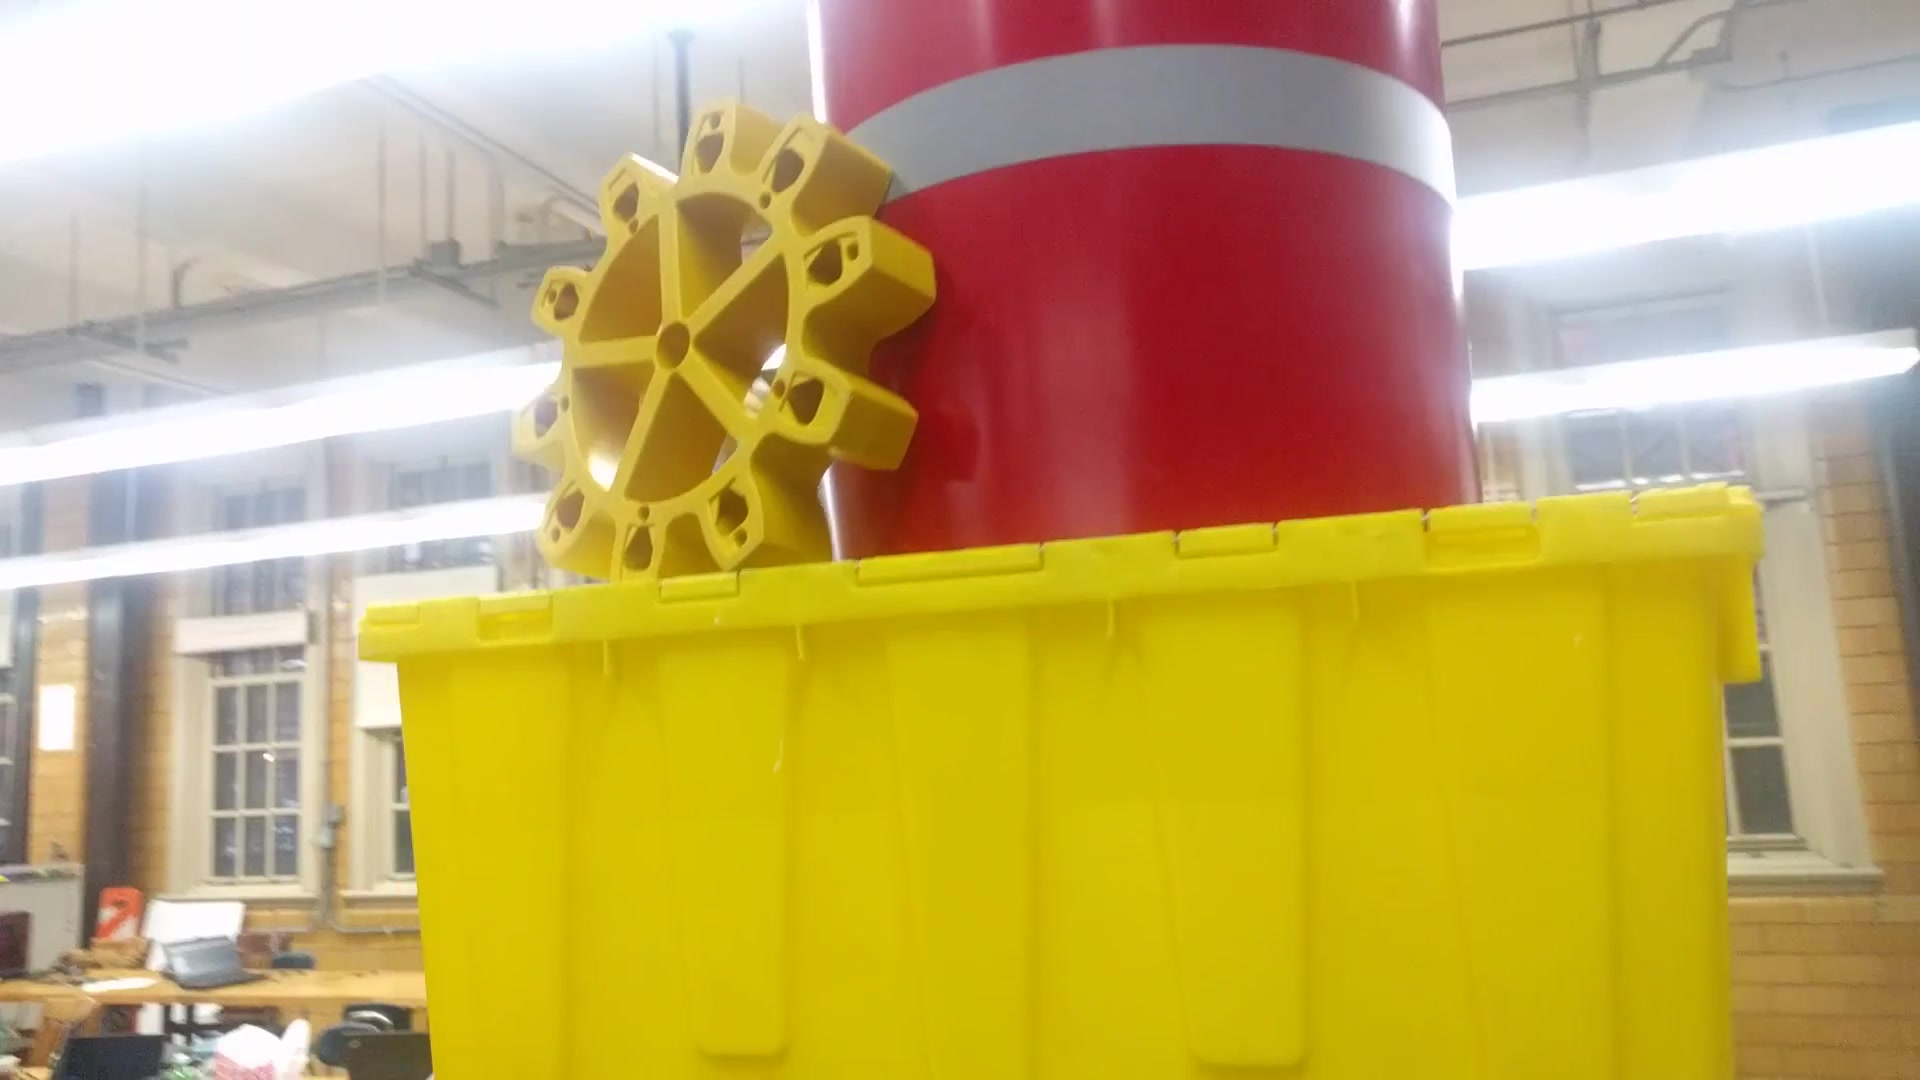gear: (506, 94, 942, 599)
